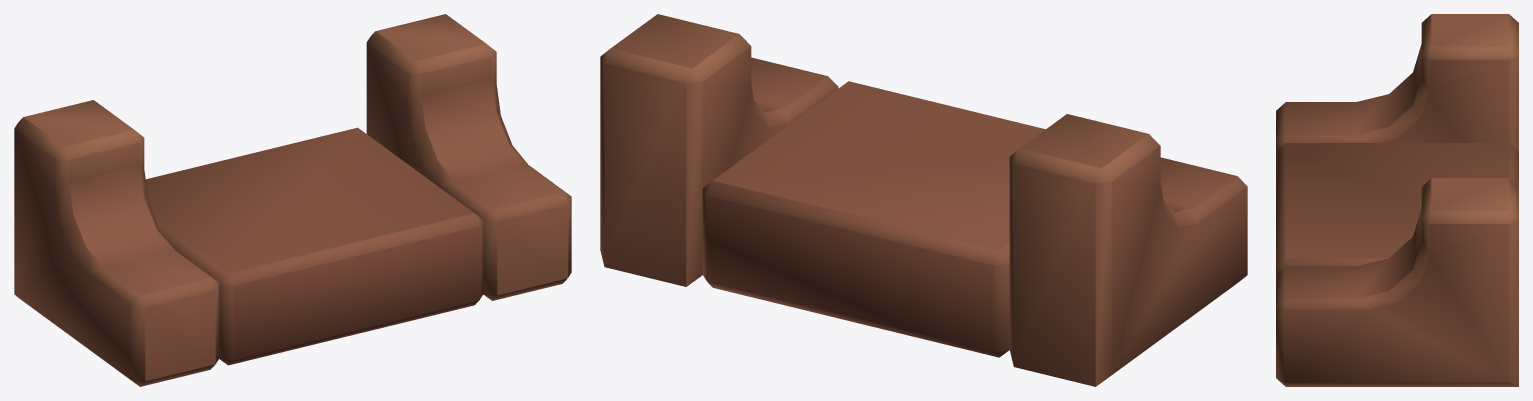
Rendered from kk_furniture_shelf_B_small.glb.
The picture shows the model from 3 angles, left to right: view 1: azimuth 30°, elevation 25°; view 2: azimuth 150°, elevation 25°; view 3: azimuth 270°, elevation 25°; orthographic projection. The views are drawn at different scales.
Visible parts, largest first — view 1: kk_furniture_shelf_B_small; view 2: kk_furniture_shelf_B_small; view 3: kk_furniture_shelf_B_small.
Part boxes in pixels (bbox=[...]): kk_furniture_shelf_B_small: bbox=[14, 14, 571, 386]; kk_furniture_shelf_B_small: bbox=[600, 14, 1247, 386]; kk_furniture_shelf_B_small: bbox=[1276, 14, 1518, 386].
Size of the model in its own units: 1 by 0.4 by 0.5.
